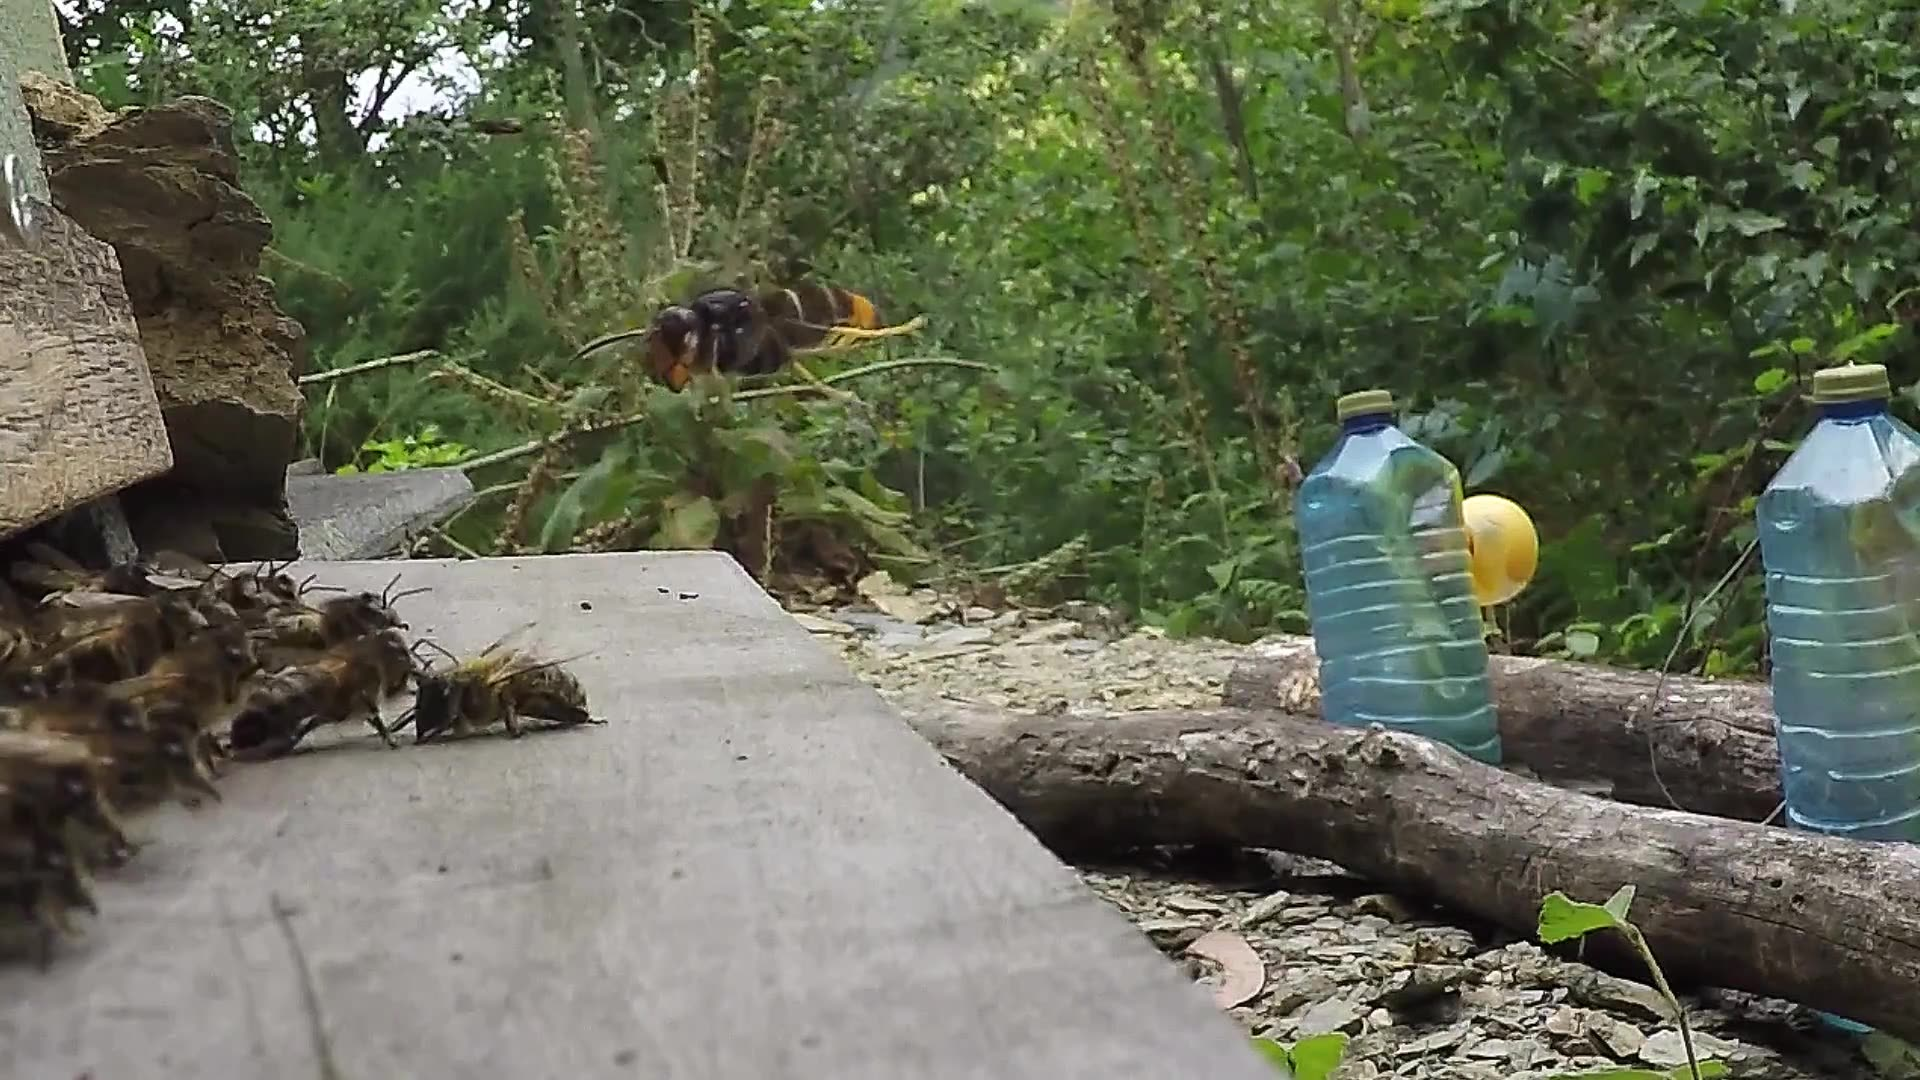bee: (1, 549, 404, 943), (401, 647, 603, 753)
hornet: (630, 261, 909, 400)
